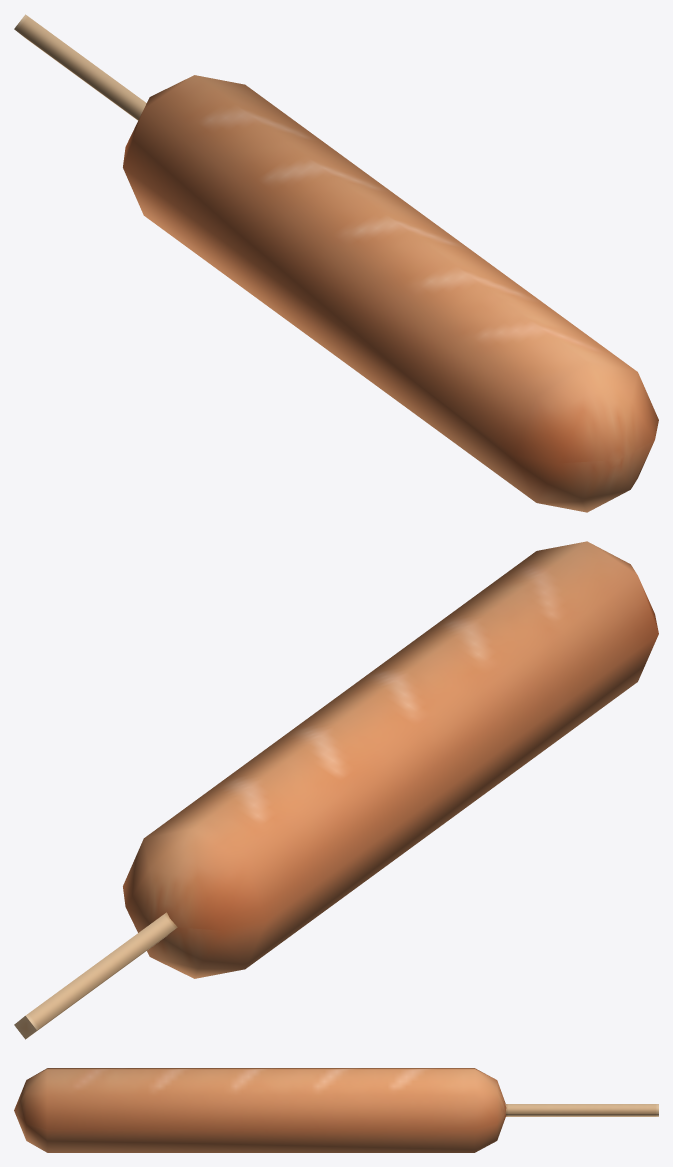
Rendered from jsf_Frankfurt_a01.fbx.
3 renders of one model, top to bottom at view 1: azimuth 30°, elevation 25°; view 2: azimuth 150°, elevation 25°; view 3: azimuth 270°, elevation 25°, orthographic. The views are drawn at different scales.
Visible parts, largest first — view 1: jsf_Frankfurt_a01; view 2: jsf_Frankfurt_a01; view 3: jsf_Frankfurt_a01.
Part boxes in pixels (<box>): jsf_Frankfurt_a01: <box>14,14,658,512</box>; jsf_Frankfurt_a01: <box>14,541,658,1039</box>; jsf_Frankfurt_a01: <box>14,1068,658,1152</box>.
Bounding box in the file's own units: 2.92 × 2.92 × 20.9.
